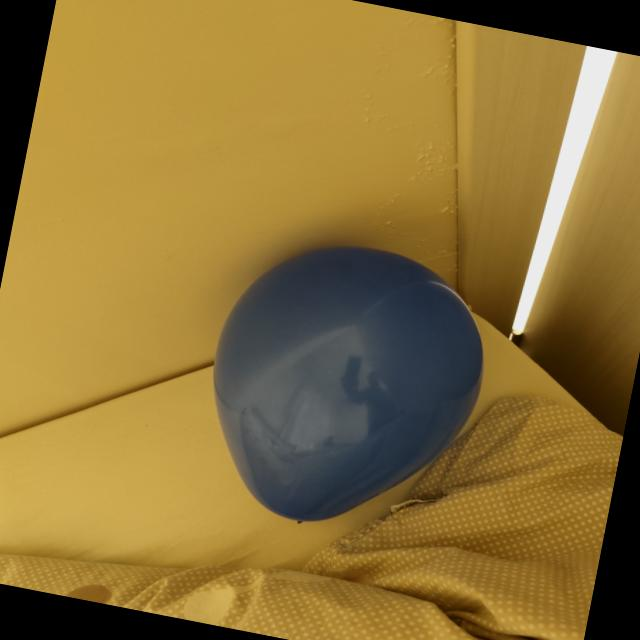balloon: (214, 247, 483, 521)
